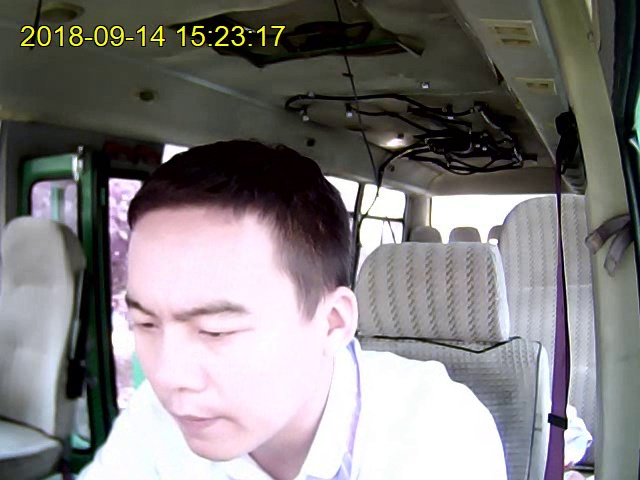closed_mouth: (168, 407, 232, 435)
